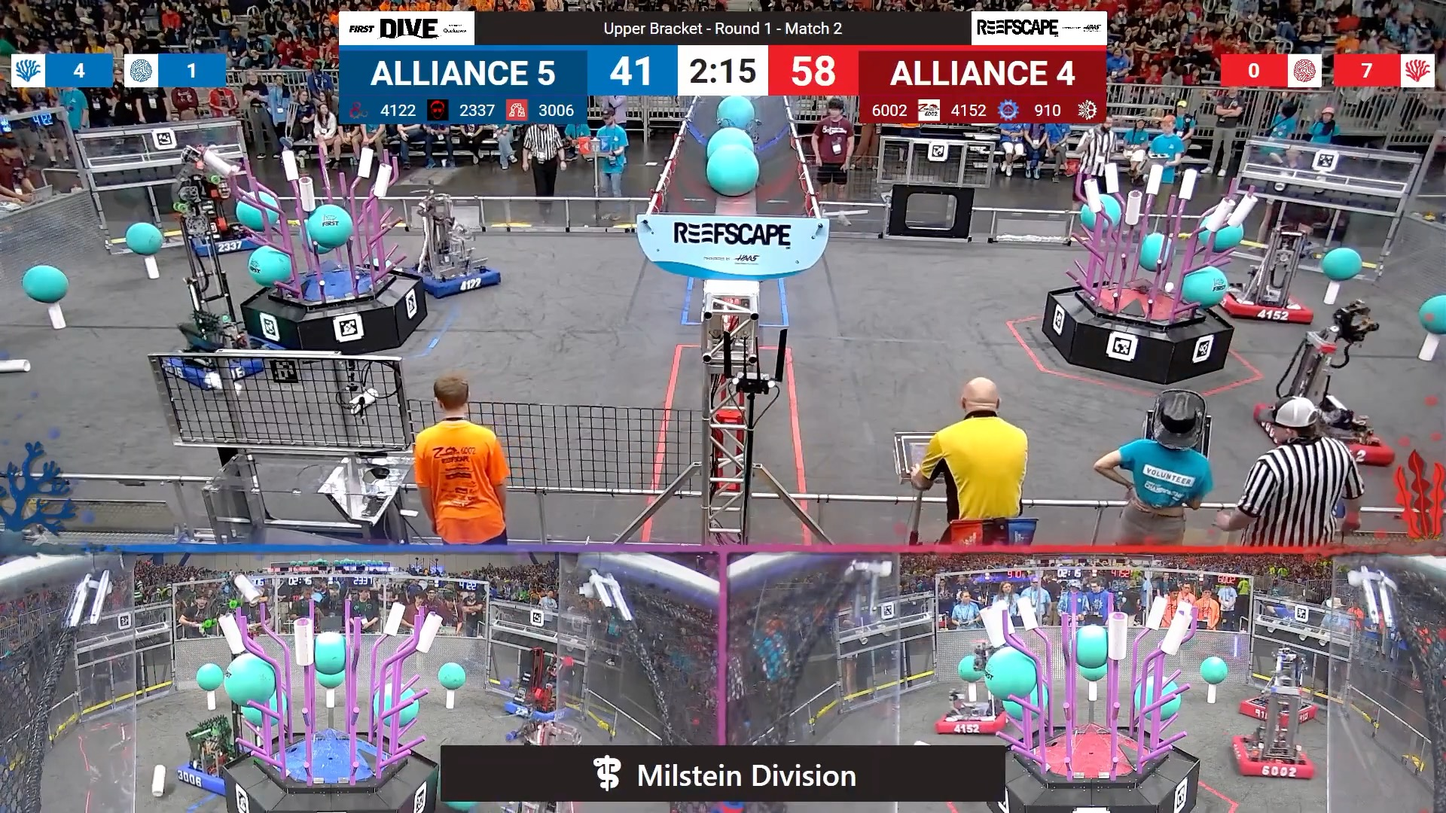bumpers: (1248, 403, 1396, 458), (162, 340, 279, 389), (1225, 733, 1321, 785), (392, 257, 507, 299), (1215, 284, 1315, 328), (933, 696, 1017, 741), (171, 746, 244, 793), (1236, 690, 1322, 729), (499, 694, 578, 726), (180, 229, 259, 258)
